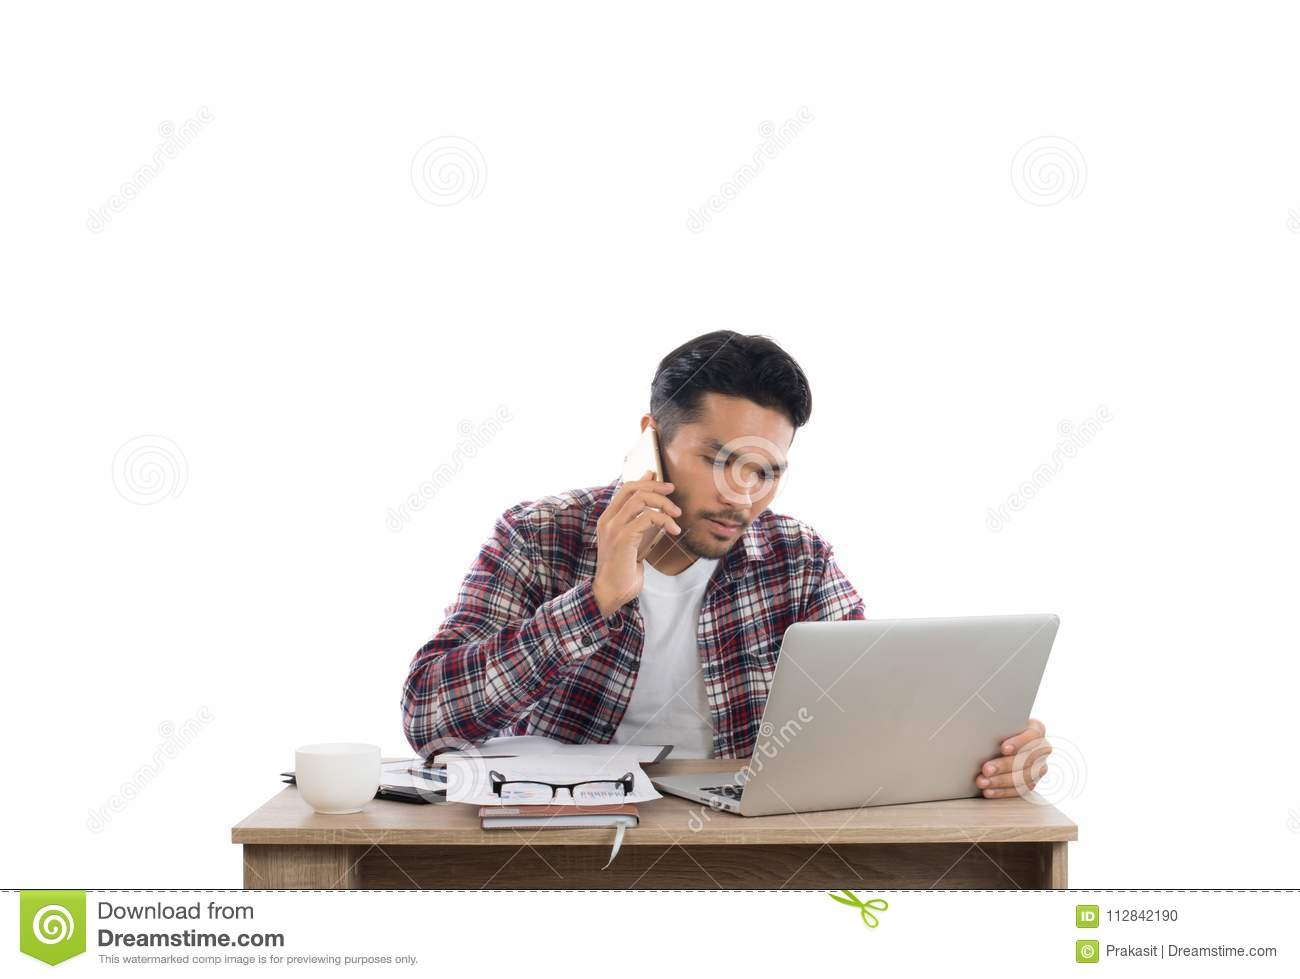phone: (619, 423, 673, 567)
talk: (593, 420, 794, 606)
